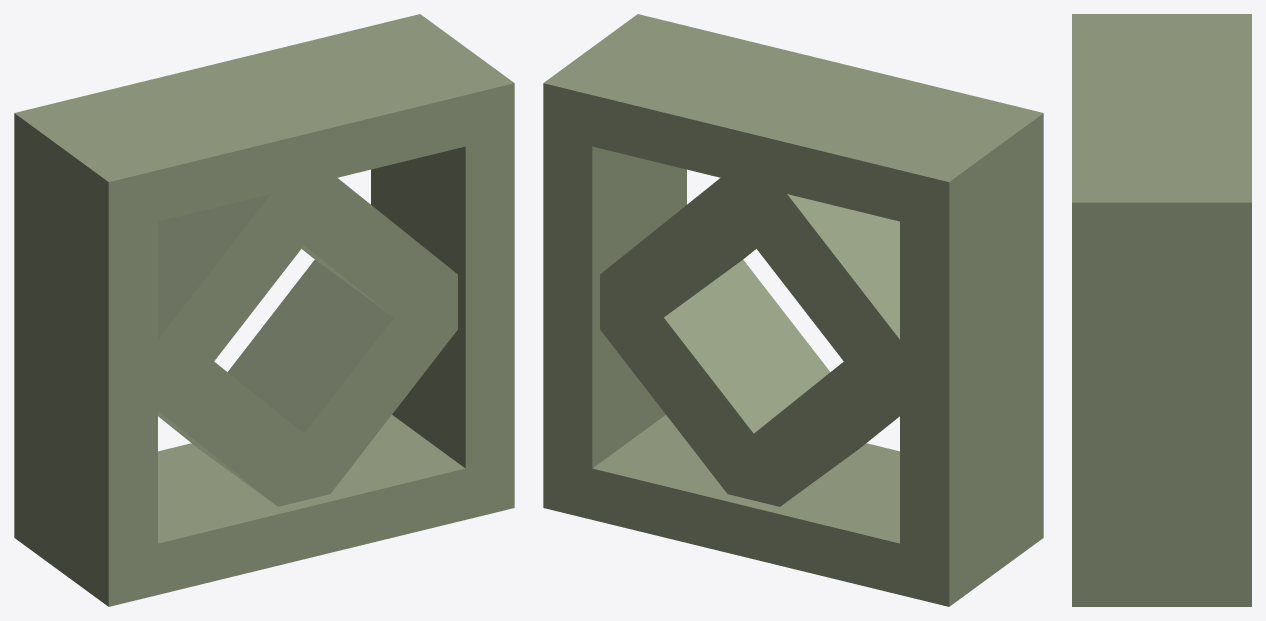
File: SM_Wall_BreezeBlock_01.fbx
3 views of the same model, side by side, from view 1: azimuth 30°, elevation 25°; view 2: azimuth 150°, elevation 25°; view 3: azimuth 270°, elevation 25° (orthographic). The views are drawn at different scales.
Visible parts, largest first — view 1: SM_Wall_BreezeBlock_01; view 2: SM_Wall_BreezeBlock_01; view 3: SM_Wall_BreezeBlock_01.
Boxes of the visible parts, <box> form: SM_Wall_BreezeBlock_01: <box>14,14,514,606</box>; SM_Wall_BreezeBlock_01: <box>543,14,1043,606</box>; SM_Wall_BreezeBlock_01: <box>1072,14,1251,606</box>.
Size of the model in its own units: 0.248 by 0.248 by 0.1.
1 material, 1 textured.
